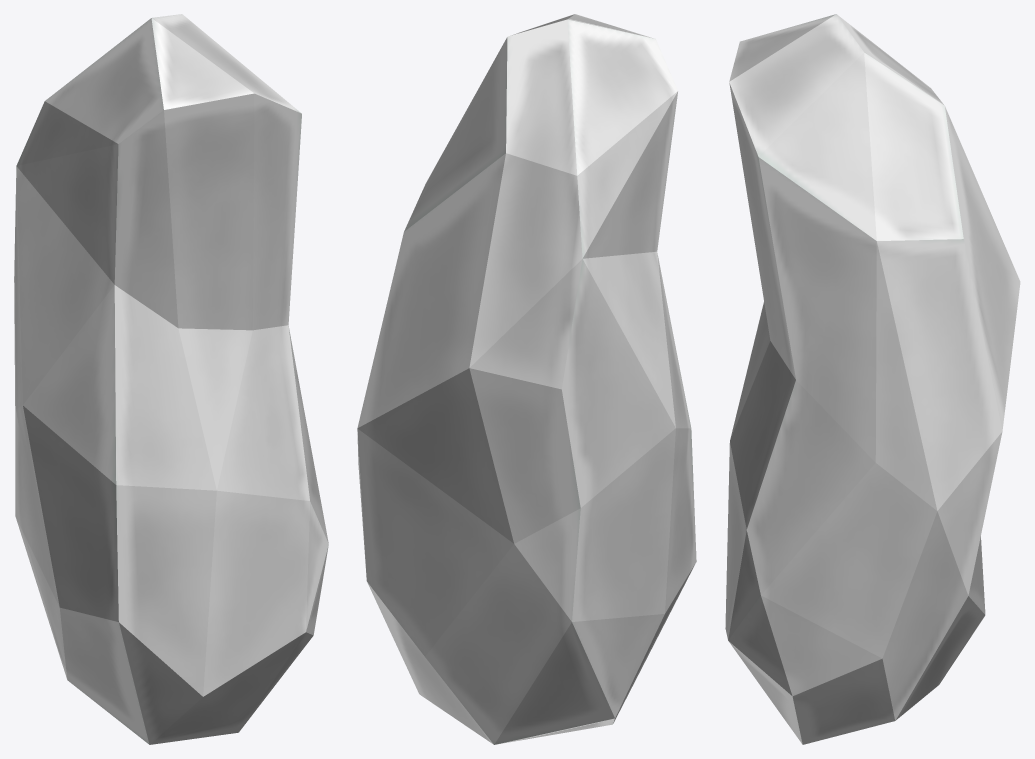
File: Mineral_02.fbx
The picture shows the model from 3 angles, left to right: view 1: azimuth 30°, elevation 25°; view 2: azimuth 150°, elevation 25°; view 3: azimuth 270°, elevation 25°; orthographic projection. The views are drawn at different scales.
Visible parts, largest first — view 1: Mineral_02; view 2: Mineral_02; view 3: Mineral_02.
Boxes of the visible parts, x1,y1,x2,y2 form: Mineral_02: [14, 14, 328, 744]; Mineral_02: [357, 14, 696, 744]; Mineral_02: [725, 14, 1020, 744].
Size of the model in its own units: 40.2 by 101 by 38.88.
